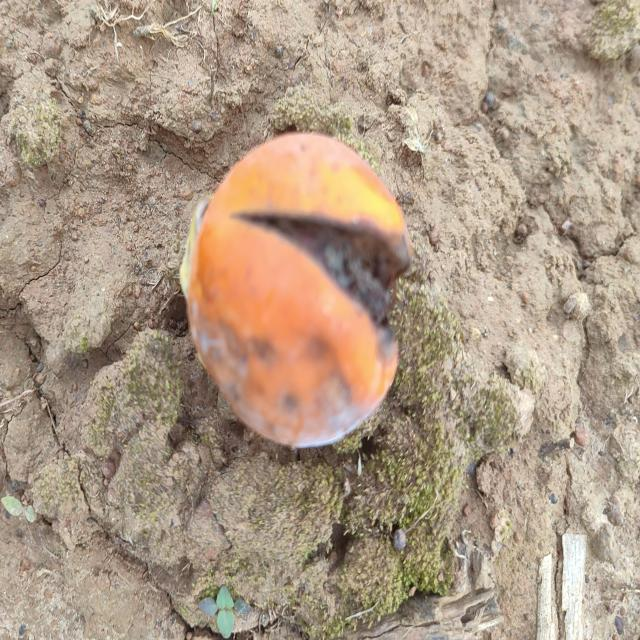damaged: (179, 132, 411, 451)
